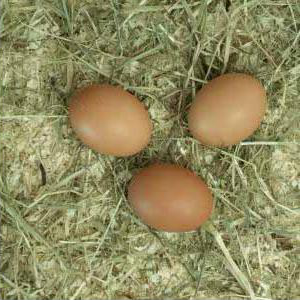egg: (128, 162, 214, 232), (69, 83, 150, 156), (187, 72, 266, 146)
